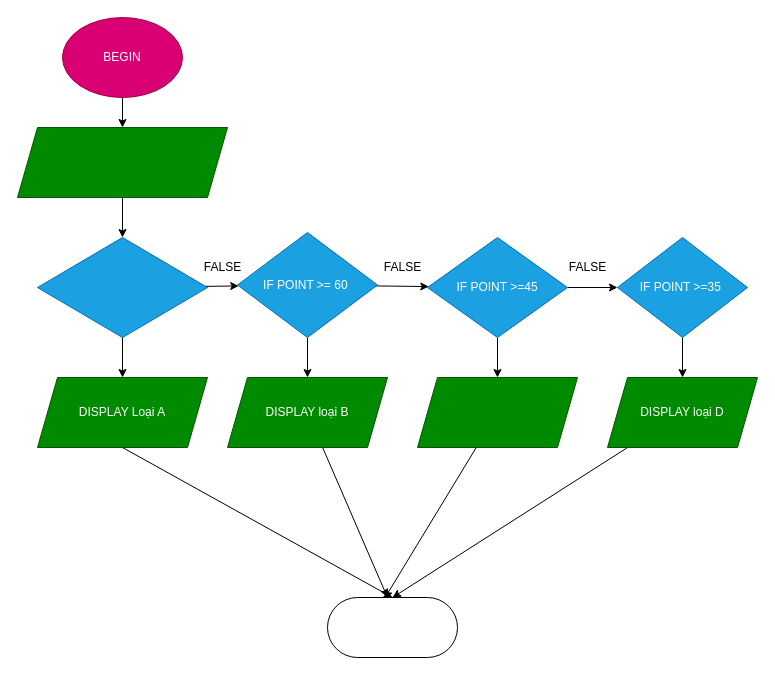
The diagram is 775 pixels wide and 675 high, and some of its shapes have lost their labels. The shapes that lost their labels are listed below. From the top down, each one's centre as x and y in pixels, then its label:
the point at 122,162: INPUT POINT
the point at 122,287: IF POINT >= 75
the point at 497,412: DISPLAY loại C
